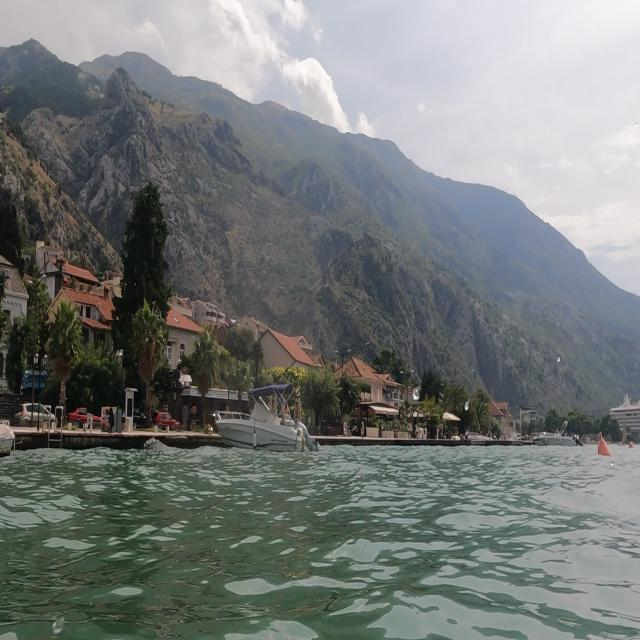boat: (211, 379, 319, 456), (534, 410, 587, 451)
buoy: (594, 427, 616, 469)
